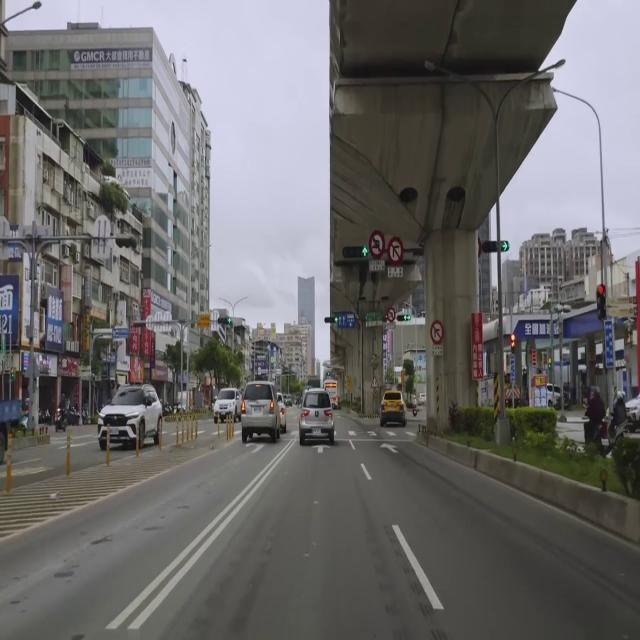green light: (482, 238, 511, 253), (342, 246, 368, 259), (323, 315, 338, 324), (397, 314, 411, 323)
